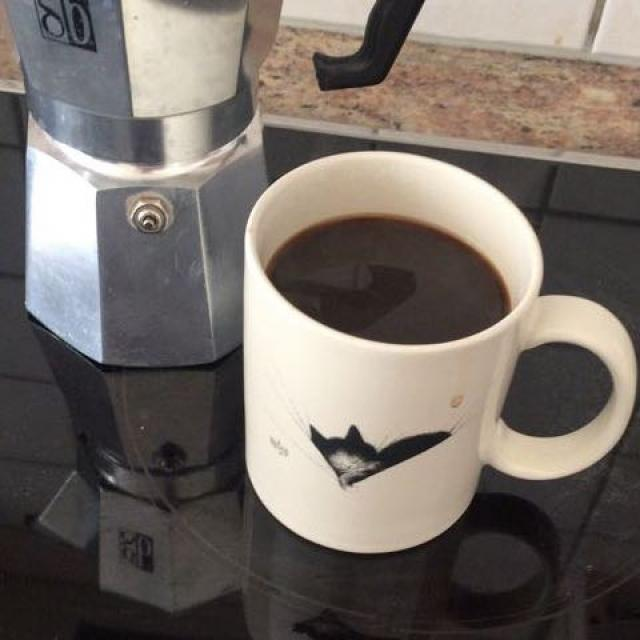coffee-with-caffeine: (271, 211, 507, 342)
